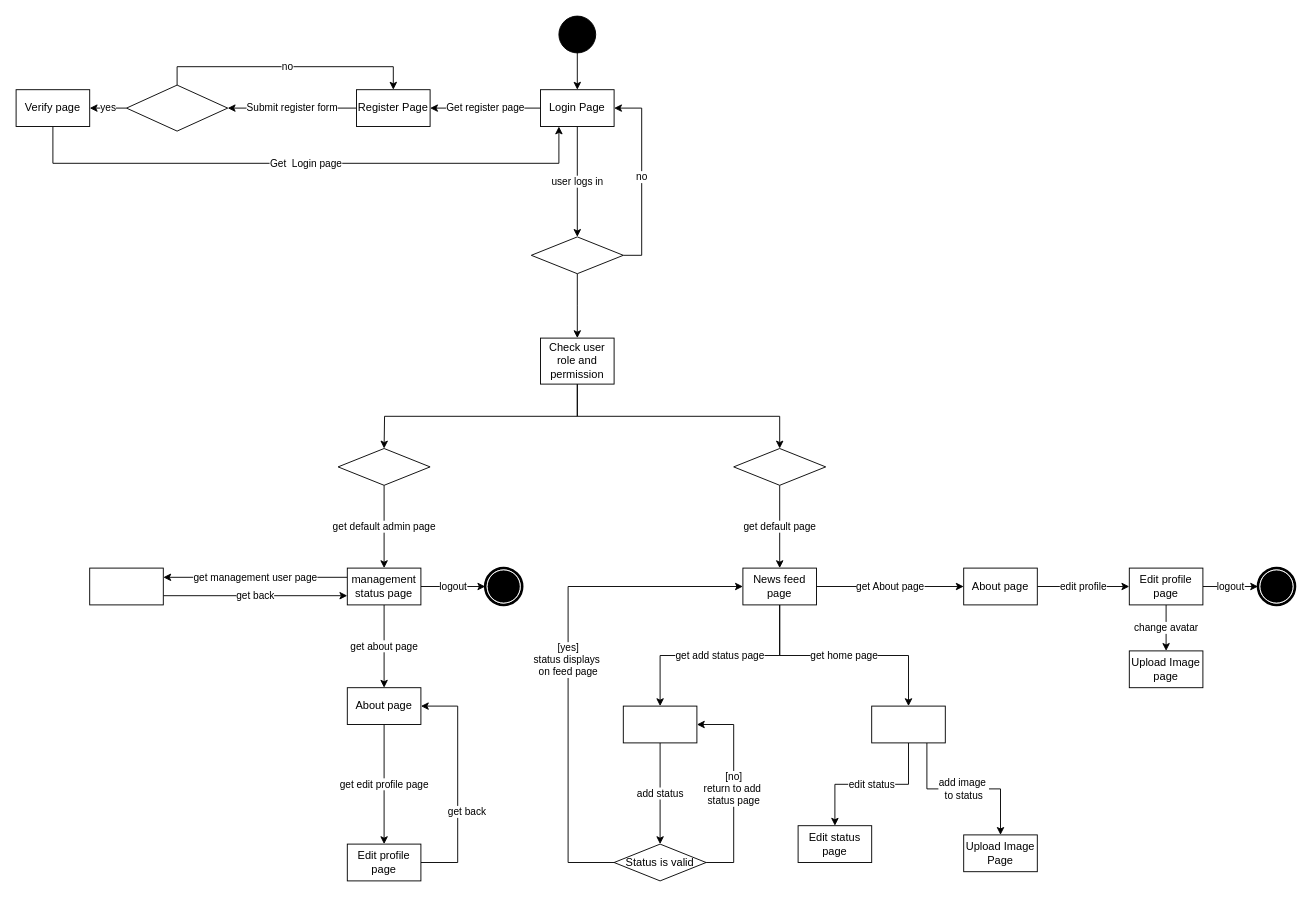
Some shapes in this 1311 by 897 pixel diagram are drawn without their labels. Here are the shapes that lost their labels. From the top down, the box of each, then its label:
(126, 84, 228, 131): Register successfully
(530, 236, 623, 274): success
(337, 448, 430, 485): ROLE_ADMIN
(733, 448, 826, 485): ROLE_USER
(89, 567, 163, 605): management user page
(622, 705, 697, 743): Add status page
(871, 705, 945, 743): Home page
